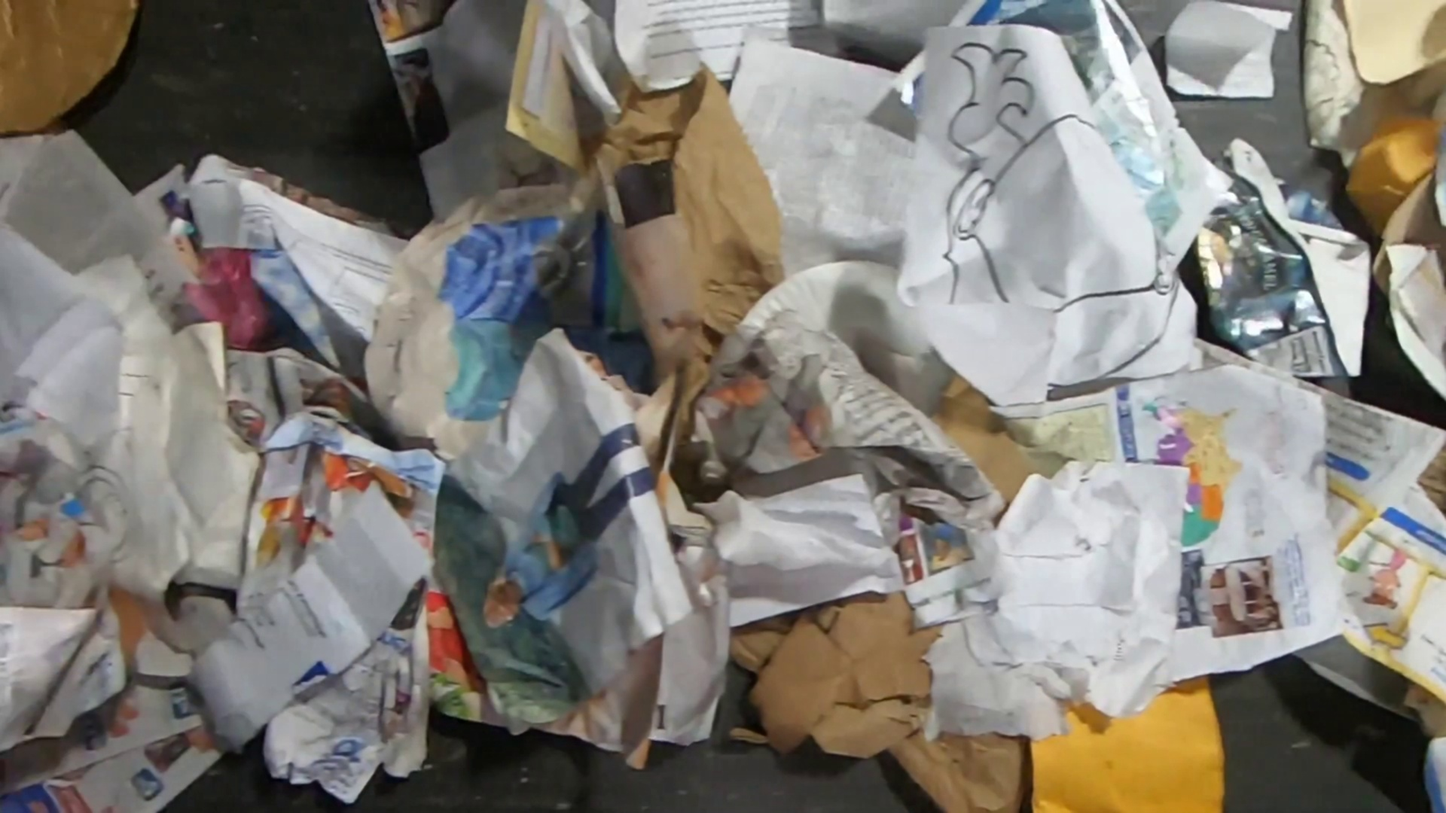cardboard: (725, 571, 1030, 813), (1193, 132, 1371, 377), (0, 0, 144, 138), (931, 367, 1038, 533), (1368, 165, 1446, 296), (1414, 439, 1446, 583)
